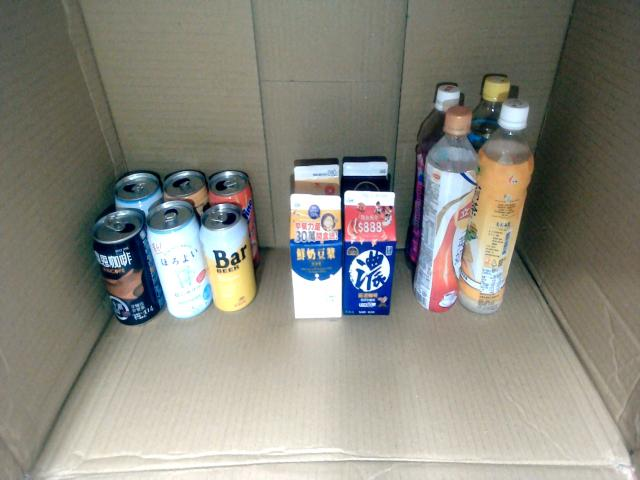Canned_drinks: (92, 208, 165, 325), (146, 200, 212, 318), (200, 203, 256, 312), (209, 170, 259, 266), (162, 170, 209, 219), (114, 170, 162, 215)
bottle: (459, 98, 534, 313), (414, 107, 478, 312), (405, 83, 464, 278), (468, 75, 510, 152)
